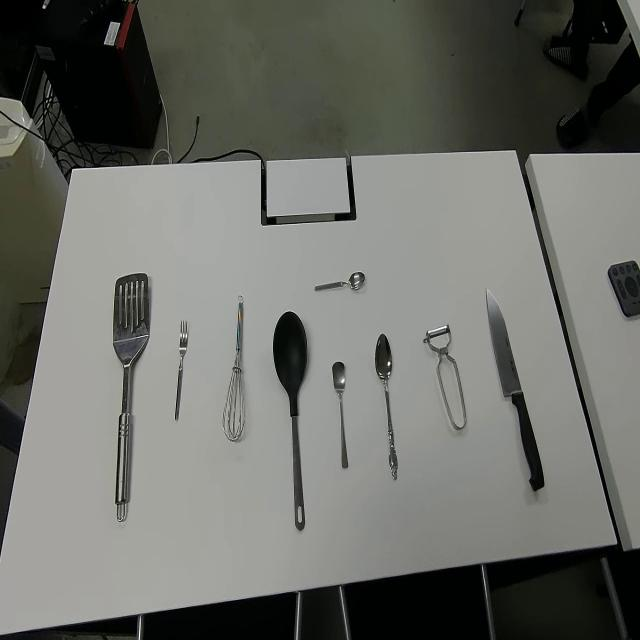Desert-Spoon: (373, 332, 399, 481)
Dinner-Fork: (174, 318, 188, 424)
Kitchen-Knife: (485, 284, 546, 492)
Peeler: (423, 323, 468, 432)
Serving-Spoon: (112, 272, 151, 524), (272, 309, 308, 531)
Tea-Spoon: (331, 360, 350, 471), (314, 269, 366, 296)
Whisk: (222, 294, 246, 444)
